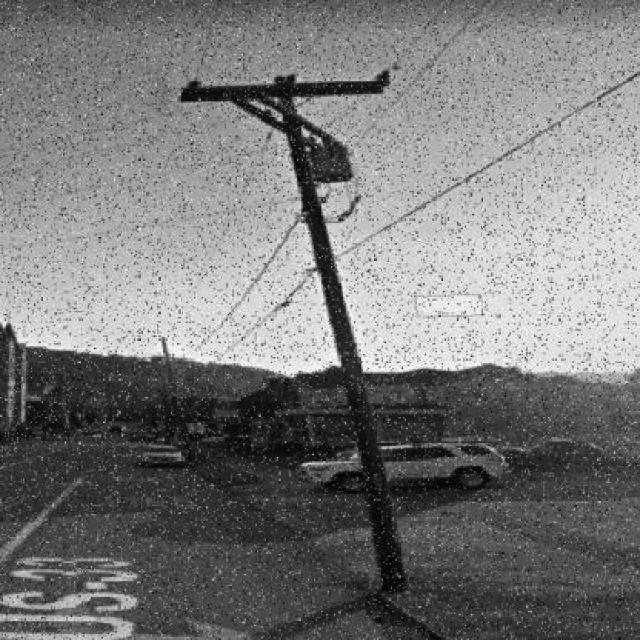crossarm: (181, 80, 385, 106), (251, 93, 331, 148), (237, 102, 318, 154)
pole: (279, 96, 403, 591)
transformer: (306, 143, 351, 180)
wire: (240, 69, 640, 339), (344, 0, 494, 158), (181, 208, 306, 364)
